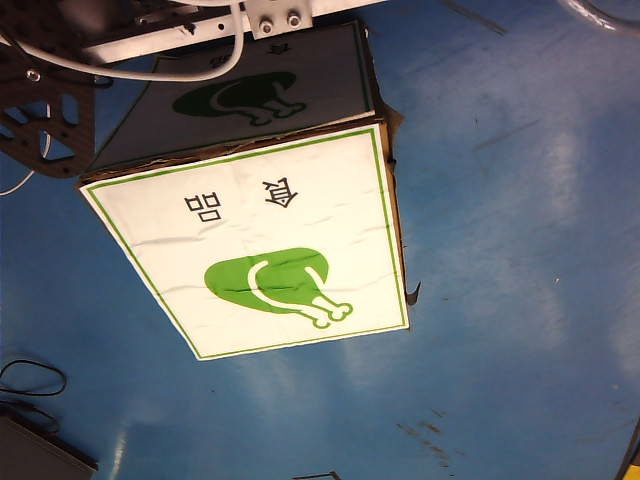Cube_food: (171, 173, 359, 335)
